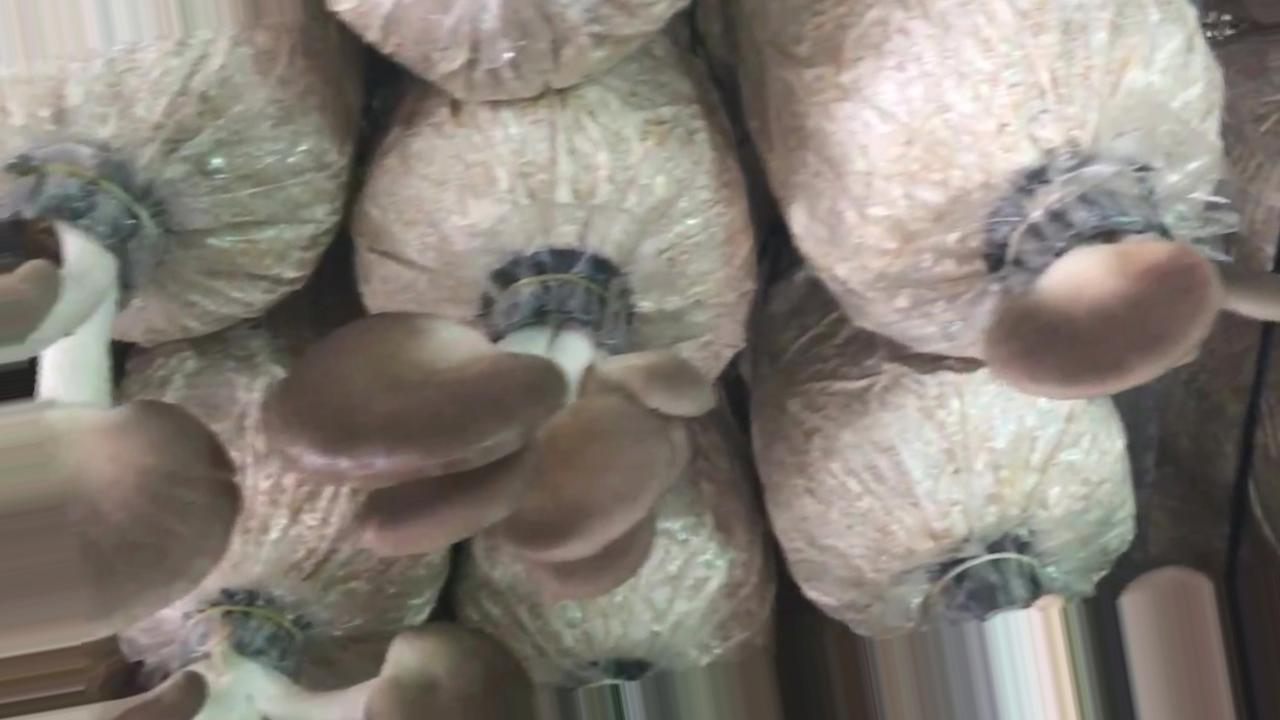nam: (259, 267, 724, 600), (1, 142, 245, 655), (982, 159, 1225, 402)
